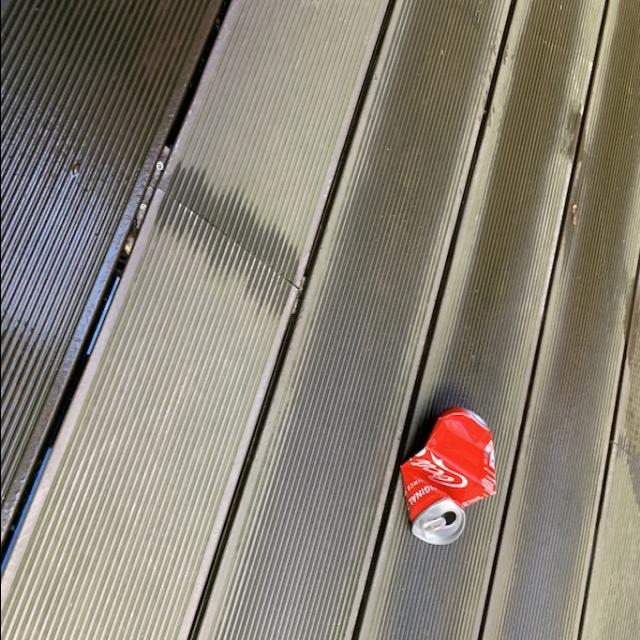Aluminum Can: (399, 405, 493, 549)
